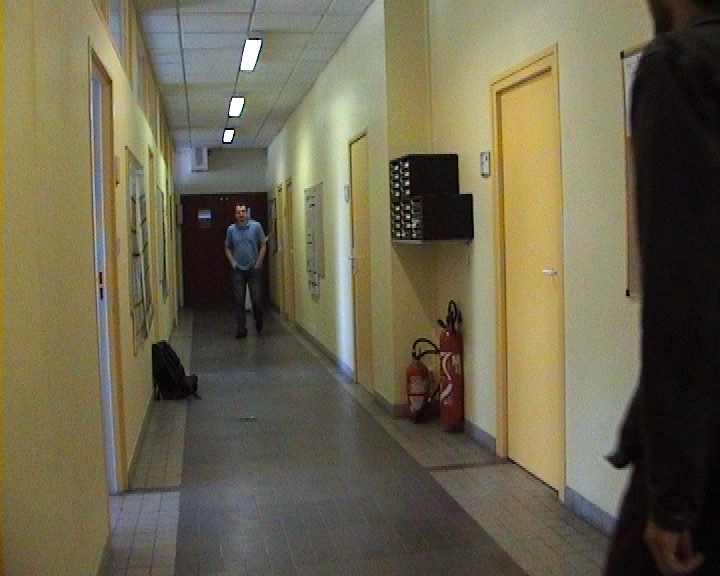leave bag unattended: (134, 326, 220, 425)
